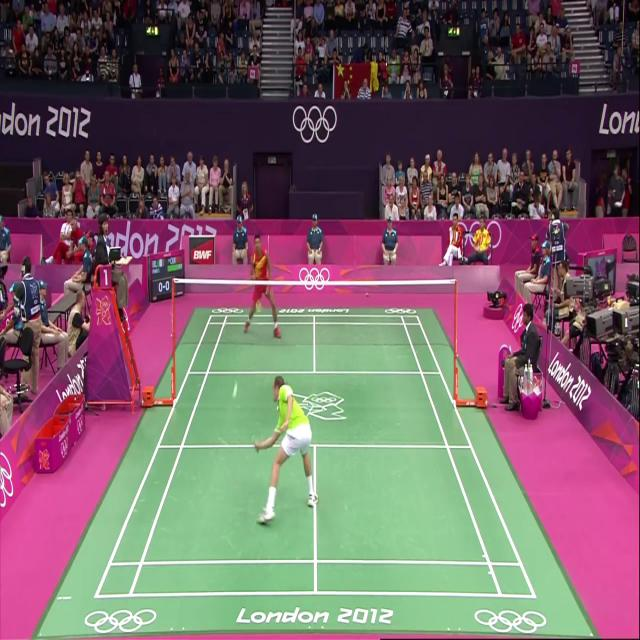Net: (174, 278, 458, 379)
Player1: (240, 329, 318, 522)
Player2: (240, 208, 280, 339)
Shuttlecock: (226, 377, 244, 407)
